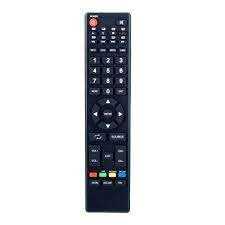remote control: (83, 13, 133, 211)
